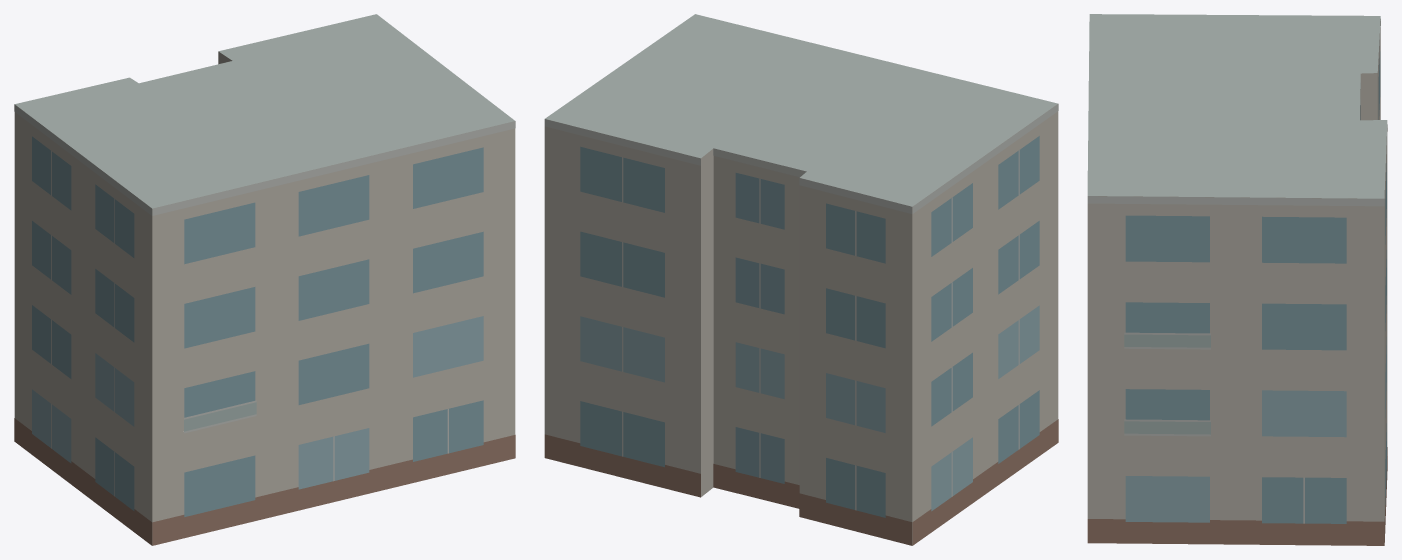
Rendered from survey-upis-32932565.glb.
3 views of the same model, side by side, from view 1: azimuth 30°, elevation 25°; view 2: azimuth 150°, elevation 25°; view 3: azimuth 270°, elevation 25° (orthographic). The views are drawn at different scales.
Parts seen in each view (by area): view 1: survey-upis-32932565.tmp; view 2: survey-upis-32932565.tmp; view 3: survey-upis-32932565.tmp.
Boxes of the visible parts, box(x1,y1,x2,y2) form: survey-upis-32932565.tmp: box(14, 14, 515, 545); survey-upis-32932565.tmp: box(544, 14, 1058, 545); survey-upis-32932565.tmp: box(1087, 14, 1387, 545).
Size of the model in its own units: 12.67 by 11.1 by 8.7.
